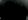person: (14, 7, 21, 19)
